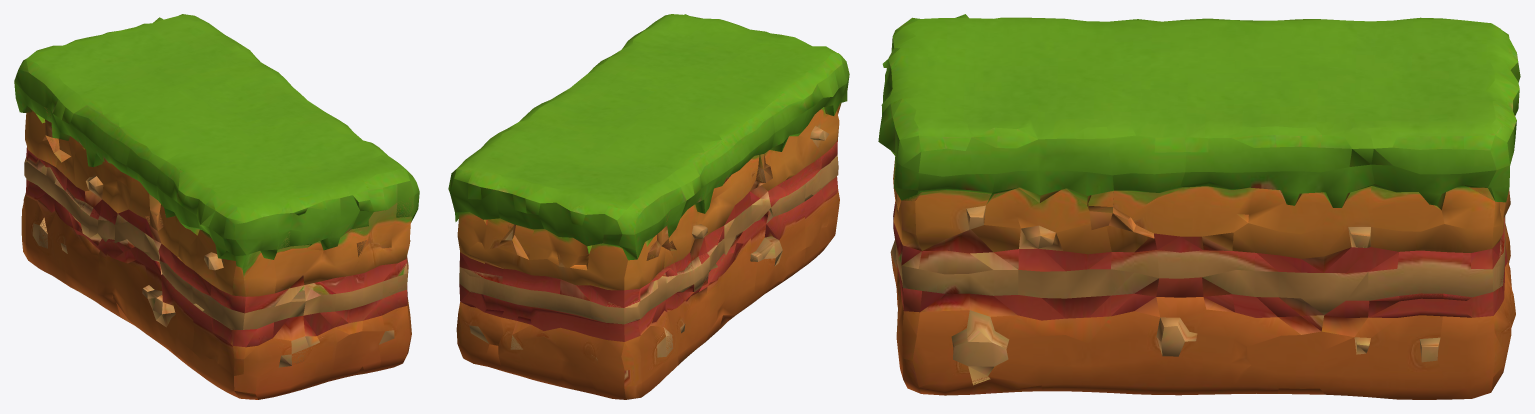
The model's file is campo_terraza2.glb.
3 renders of one model, left to right at view 1: azimuth 30°, elevation 25°; view 2: azimuth 150°, elevation 25°; view 3: azimuth 270°, elevation 25°, orthographic. The views are drawn at different scales.
Visible parts, largest first — view 1: tripo_node_d809308f-bec8-46ba-a361-185600bd103a; view 2: tripo_node_d809308f-bec8-46ba-a361-185600bd103a; view 3: tripo_node_d809308f-bec8-46ba-a361-185600bd103a.
Boxes of the visible parts, x1,y1,x2,y2 form: tripo_node_d809308f-bec8-46ba-a361-185600bd103a: (14, 14, 419, 399); tripo_node_d809308f-bec8-46ba-a361-185600bd103a: (448, 14, 849, 399); tripo_node_d809308f-bec8-46ba-a361-185600bd103a: (878, 14, 1520, 399).
Size of the model in its own units: 0.4798 by 0.4758 by 0.9839.
Materials: 1 (1 with a texture image).
